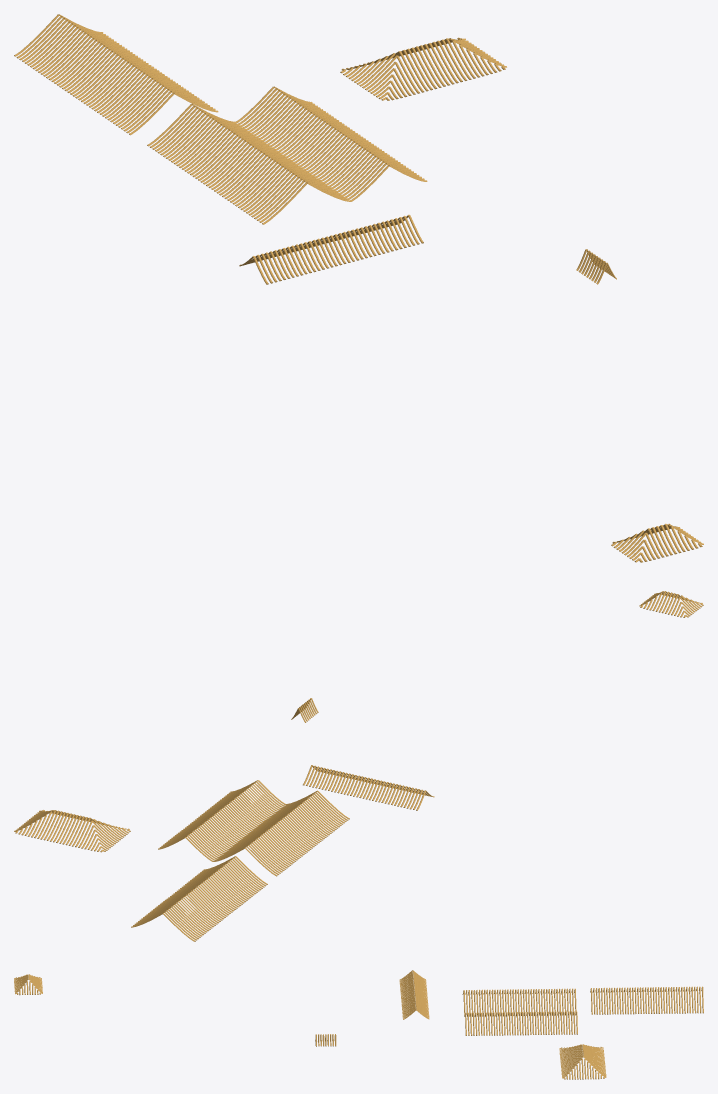
The model's file is roof-tiles-7-6.glb.
The picture shows the model from 3 angles, top to bottom: view 1: azimuth 30°, elevation 25°; view 2: azimuth 150°, elevation 25°; view 3: azimuth 270°, elevation 25°; orthographic projection. The views are drawn at different scales.
Visible parts, largest first — view 1: roof-tiles-7-6_micro_Roof_Glazed_Ochre; view 2: roof-tiles-7-6_micro_Roof_Glazed_Ochre; view 3: roof-tiles-7-6_micro_Roof_Glazed_Ochre.
Part boxes in pixels (x1,y1,x2,y2): roof-tiles-7-6_micro_Roof_Glazed_Ochre: [14, 14, 703, 562]; roof-tiles-7-6_micro_Roof_Glazed_Ochre: [14, 591, 703, 941]; roof-tiles-7-6_micro_Roof_Glazed_Ochre: [14, 970, 703, 1079].
Bounding box in the file's own units: 0.3696 × 0.0263 × 1.06.
